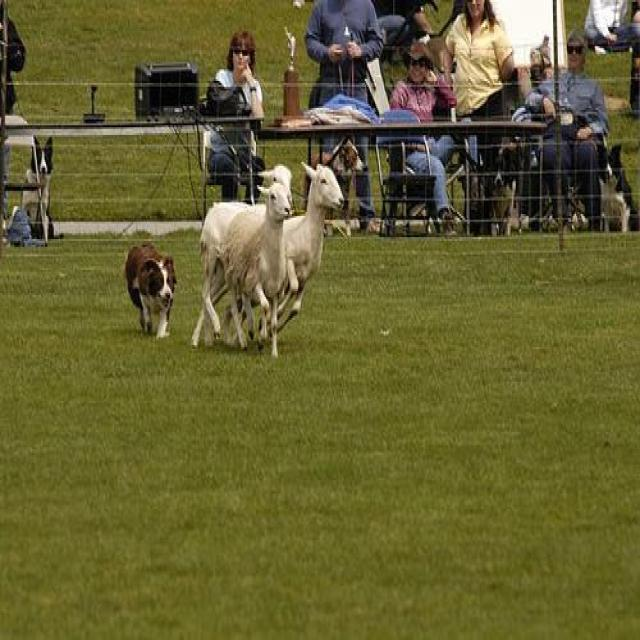Sheep: (200, 164, 292, 347), (221, 183, 292, 361), (278, 162, 346, 331)
